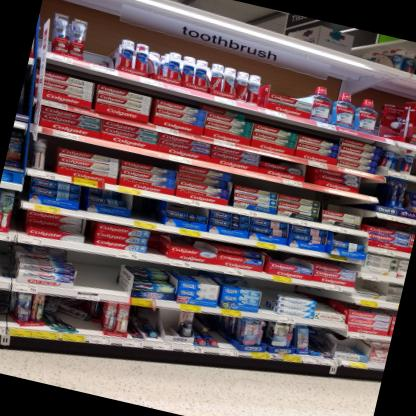empty_space: (74, 252, 134, 297), (208, 315, 240, 349), (132, 195, 166, 225), (83, 23, 106, 65), (99, 28, 122, 69), (258, 280, 281, 315), (0, 240, 14, 283)
